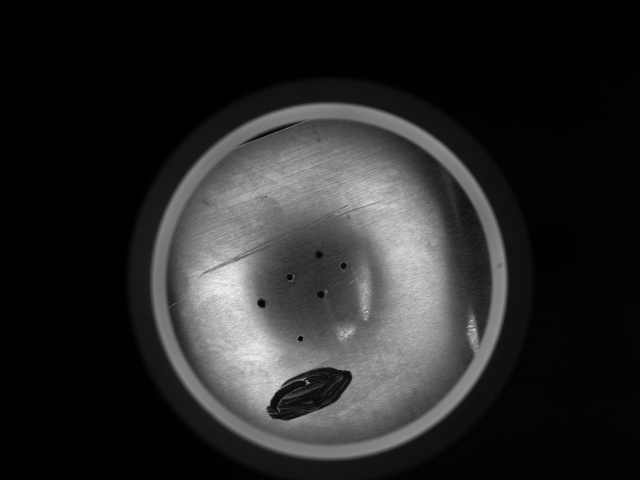ca_shang: (196, 194, 391, 266)
zang_wu: (257, 361, 355, 429)
zhen_kong: (247, 287, 276, 320), (330, 254, 360, 280), (277, 262, 303, 292), (306, 240, 332, 269), (306, 282, 334, 307), (287, 327, 314, 352)
